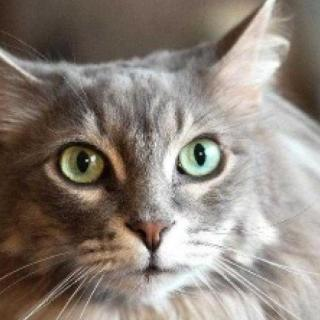cat: (0, 18, 296, 311)
nose: (119, 192, 183, 253)
